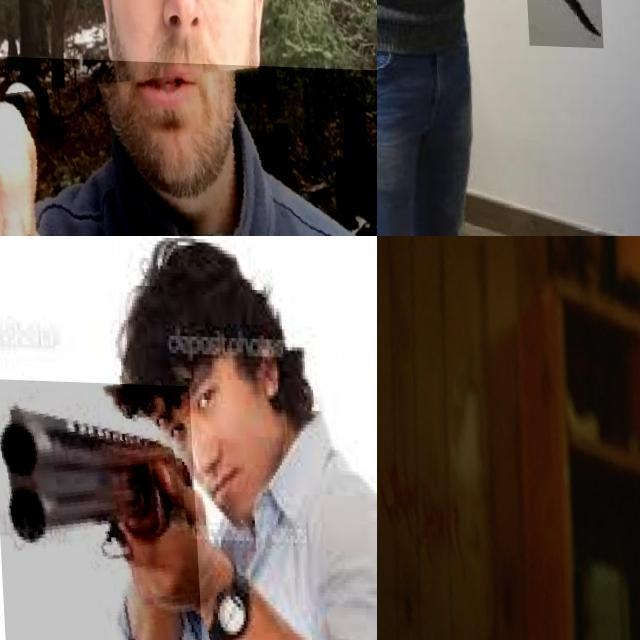-: (0, 51, 377, 236), (520, 0, 599, 60)
gun-knife-thesis - v11 Yolov5 augmented: (0, 378, 198, 640)
